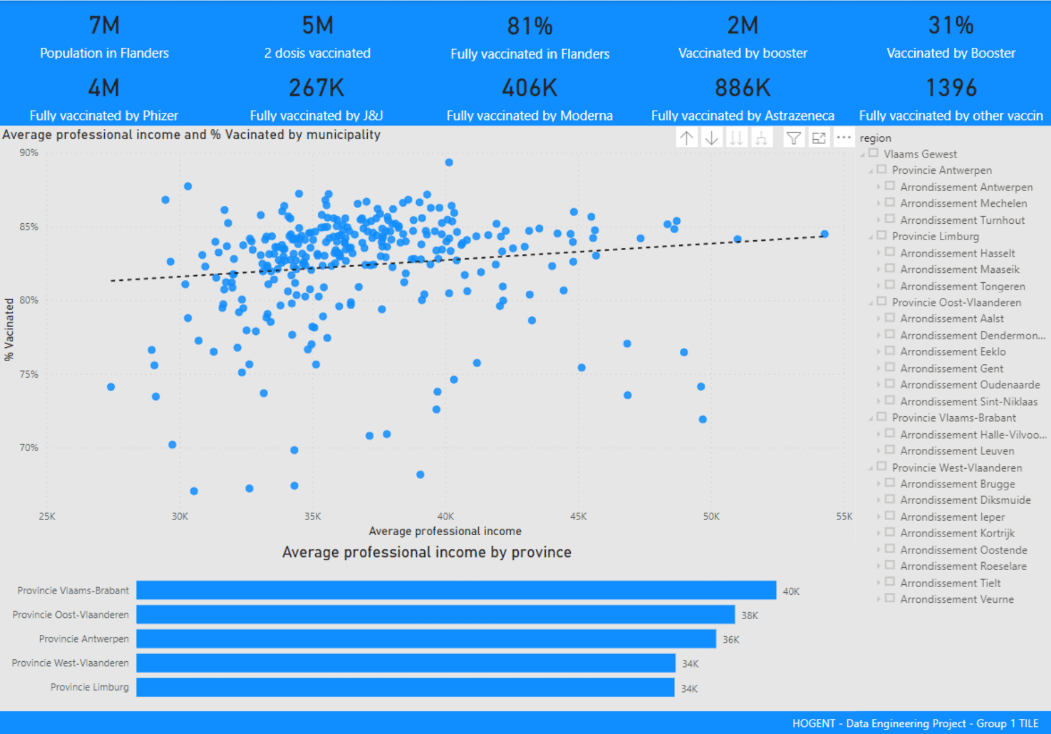

The dashboard page shown, as its layout file describes it:
{"tool":"powerbi","page":{"name":"ScatterVac%Inkomen","canvas":[1280,890],"ordinal":2},"visuals":[{"type":"textbox","box":[945.4,861.8,334.6,38],"z":0},{"type":"card","fields":{"Values":["fact_vaccinations_by_nis_code_daily_updated.% Vacinated"]},"box":[515.8,0,258.5,78.6],"z":1000,"group":"g1"},{"type":"scatterChart","fields":{"X":["Sum(fact_income_by_nis_code_yearly_updated.Average professional income)"],"Category":["region_hierarchy.region Hiërarchie.region","region_hierarchy.region Hiërarchie.province","region_hierarchy.region Hiërarchie.district","region_hierarchy.region Hiërarchie.municipality"],"Y":["fact_vaccinations_by_nis_code_daily_updated.% Vacinated"]},"box":[0,151.8,1040.7,505.2],"z":1000},{"type":"card","fields":{"Values":["Sum(fact_vaccinations_by_nis_code_daily_updated.vaccinated_fully_total)"]},"box":[258.5,0,258.5,76],"z":2000,"group":"g1"},{"type":"HierarchySlicer1458836712039","fields":{"Fields":["region_hierarchy.region Hiërarchie.region","region_hierarchy.region Hiërarchie.province","region_hierarchy.region Hiërarchie.district","region_hierarchy.region Hiërarchie.municipality"]},"box":[1040.7,151.8,238.5,710],"z":2000},{"type":"group","id":"g1","title":"Group 1","box":[0,0,1279.2,152.1],"z":3000},{"type":"card","fields":{"Values":["Sum(fact_vaccinations_by_nis_code_daily_updated.vaccinated_with_booster)"]},"box":[774.3,0,258.5,76],"z":3000,"group":"g1"},{"type":"card","fields":{"Values":["Sum(fact_vaccinations_by_nis_code_daily_updated.vaccinated_fully_pfizer)"]},"box":[0,76,257.3,76],"z":4000,"group":"g1"},{"type":"barChart","title":"Average professional income by province","fields":{"Category":["region_hierarchy.region Hiërarchie.region","region_hierarchy.region Hiërarchie.province","region_hierarchy.region Hiërarchie.district","region_hierarchy.region Hiërarchie.municipality"],"Y":["Median(fact_income_by_nis_code_yearly_updated.Average professional income)"]},"box":[0,656.9,1040.7,204.9],"z":4000},{"type":"card","fields":{"Values":["Sum(fact_vaccinations_by_nis_code_daily_updated.vaccinated_fully_astrazeneca)"]},"box":[774,75.9,259.1,75.9],"z":5000,"group":"g1"},{"type":"card","fields":{"Values":["Sum(fact_vaccinations_by_nis_code_daily_updated.vaccinated_fully_johnsonandjohnson)"]},"box":[256.9,75.9,259.1,75.9],"z":6000,"group":"g1"},{"type":"card","fields":{"Values":["Sum(fact_vaccinations_by_nis_code_daily_updated.vaccinated_fully_moderna)"]},"box":[516,75.9,258,75.9],"z":7000,"group":"g1"},{"type":"card","fields":{"Values":["Sum(fact_vaccinations_by_nis_code_daily_updated.population_by_agecategory_and_municipality)"]},"box":[0,0,258.5,75.6],"z":8000,"group":"g1"},{"type":"card","fields":{"Values":["Sum(fact_vaccinations_by_nis_code_daily_updated.vaccinated_fully_other)"]},"box":[1033.1,75.9,246.1,75.9],"z":9000,"group":"g1"},{"type":"card","fields":{"Values":["fact_vaccinations_by_nis_code_daily_updated.% Vaccinated by Booster"]},"box":[1032.9,0,245.9,76],"z":10000,"group":"g1"}]}

Visuals, with their boxes in screenshot pixels (x1, y1, x2, y2), scaled from the page's 1280x890 canvas onto the 1051x734 screenshot:
textbox: {"x1": 776, "y1": 711, "x2": 1050, "y2": 733}
card - fact_vaccinations_by_nis_code_daily_updated.% Vacinated: {"x1": 424, "y1": 0, "x2": 636, "y2": 65}
scatterChart - Sum(fact_income_by_nis_code_yearly_updated.Average professional income) x region_hierarchy.region Hiërarchie.region: {"x1": 0, "y1": 125, "x2": 855, "y2": 542}
card - Sum(fact_vaccinations_by_nis_code_daily_updated.vaccinated_fully_total): {"x1": 212, "y1": 0, "x2": 425, "y2": 63}
HierarchySlicer1458836712039 - region_hierarchy.region Hiërarchie.region x region_hierarchy.region Hiërarchie.province: {"x1": 855, "y1": 125, "x2": 1050, "y2": 711}
"Group 1" group: {"x1": 0, "y1": 0, "x2": 1050, "y2": 125}
card - Sum(fact_vaccinations_by_nis_code_daily_updated.vaccinated_with_booster): {"x1": 636, "y1": 0, "x2": 848, "y2": 63}
card - Sum(fact_vaccinations_by_nis_code_daily_updated.vaccinated_fully_pfizer): {"x1": 0, "y1": 63, "x2": 211, "y2": 125}
"Average professional income by province" barChart: {"x1": 0, "y1": 542, "x2": 855, "y2": 711}
card - Sum(fact_vaccinations_by_nis_code_daily_updated.vaccinated_fully_astrazeneca): {"x1": 636, "y1": 63, "x2": 848, "y2": 125}
card - Sum(fact_vaccinations_by_nis_code_daily_updated.vaccinated_fully_johnsonandjohnson): {"x1": 211, "y1": 63, "x2": 424, "y2": 125}
card - Sum(fact_vaccinations_by_nis_code_daily_updated.vaccinated_fully_moderna): {"x1": 424, "y1": 63, "x2": 636, "y2": 125}
card - Sum(fact_vaccinations_by_nis_code_daily_updated.population_by_agecategory_and_municipality): {"x1": 0, "y1": 0, "x2": 212, "y2": 62}
card - Sum(fact_vaccinations_by_nis_code_daily_updated.vaccinated_fully_other): {"x1": 848, "y1": 63, "x2": 1050, "y2": 125}
card - fact_vaccinations_by_nis_code_daily_updated.% Vaccinated by Booster: {"x1": 848, "y1": 0, "x2": 1050, "y2": 63}
